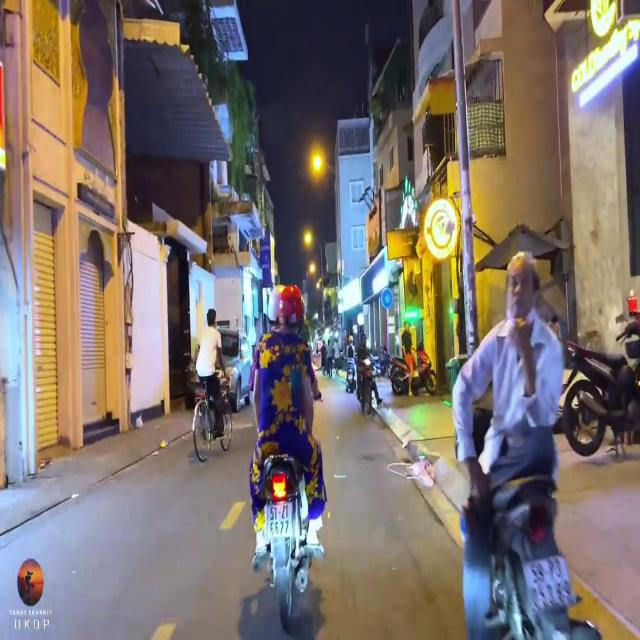bien_trang: (266, 501, 296, 542)
